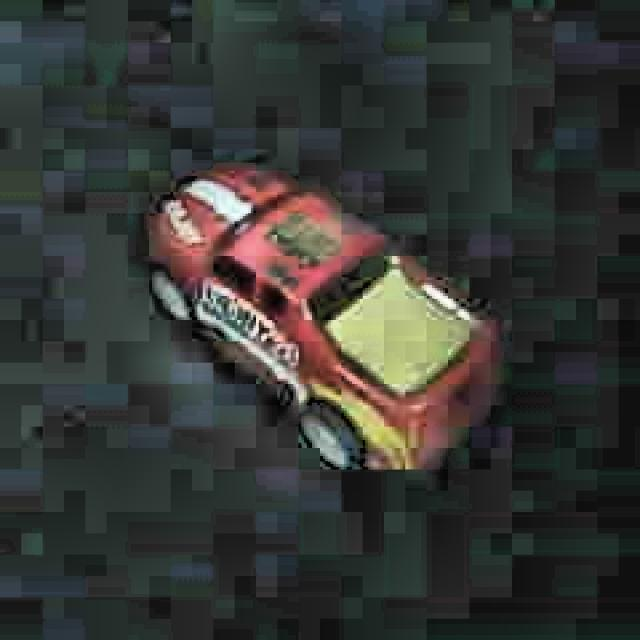car: (134, 149, 505, 490)
